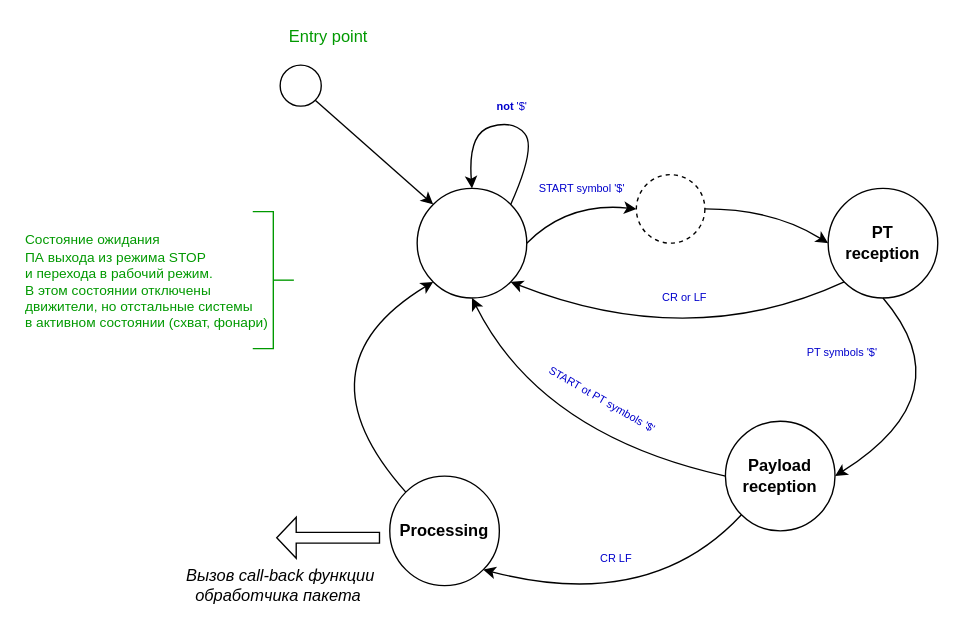
The diagram is 962 pixels wide and 636 high, and some of its shapes have lost their labels. The shapes that lost their labels are listed below. From the top down, each one's centre as x and y in pixels, then its label:
pixel 670 208: DL RESET
pixel 471 242: Idle
